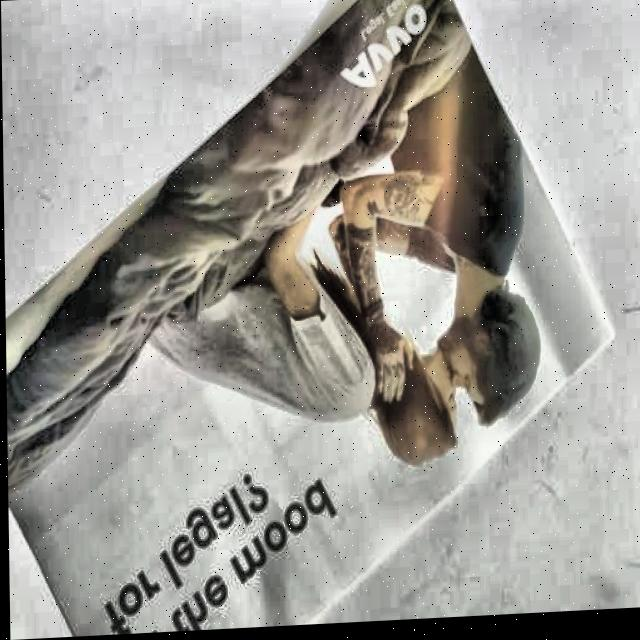paper: (0, 0, 617, 640)
